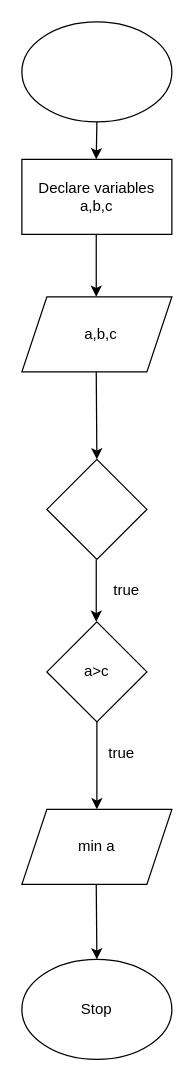
This 194x1081 diagram has some shape labels left out. Each missing label, with the centre of its shape:
a>b: the point at 96,508
start: the point at 96,71
